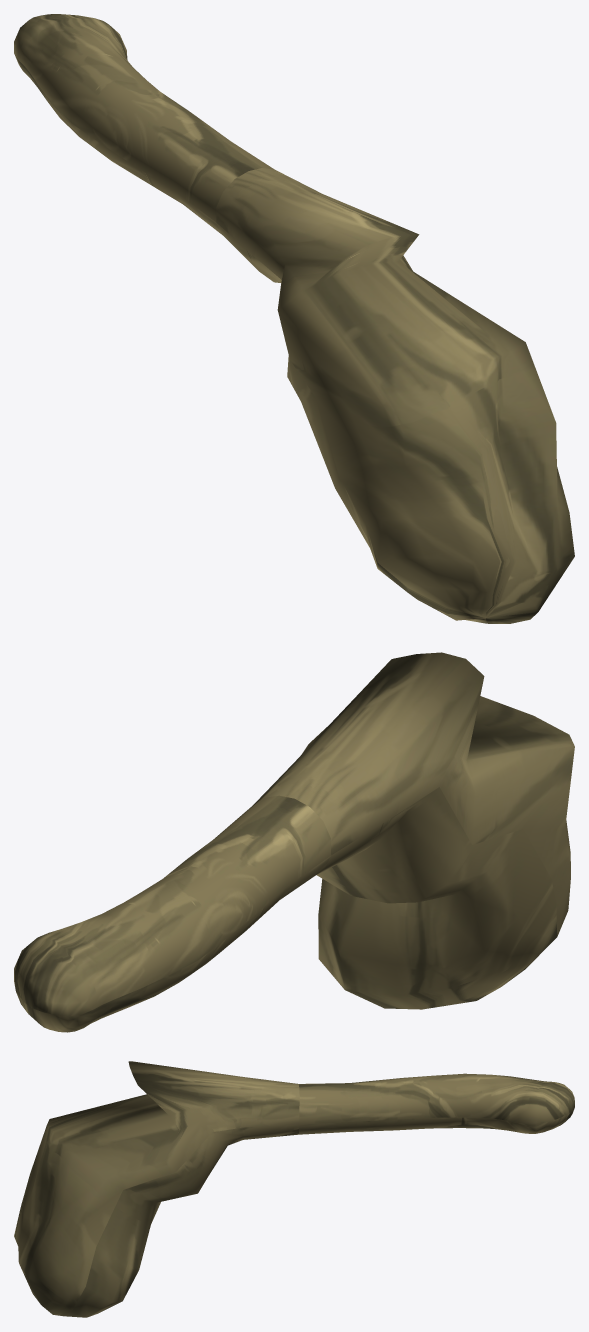
Rendered from axe broken.fbx.
3 renders of one model, top to bottom at view 1: azimuth 30°, elevation 25°; view 2: azimuth 150°, elevation 25°; view 3: azimuth 270°, elevation 25°, orthographic. The views are drawn at different scales.
Parts seen in each view (by area): view 1: fireaxe broken; view 2: fireaxe broken; view 3: fireaxe broken.
Boxes of the visible parts, x1,y1,x2,y2 form: fireaxe broken: [14, 14, 574, 623]; fireaxe broken: [14, 652, 574, 1032]; fireaxe broken: [14, 1061, 574, 1317].
Size of the model in its own units: 10.91 by 41.64 by 18.68.
